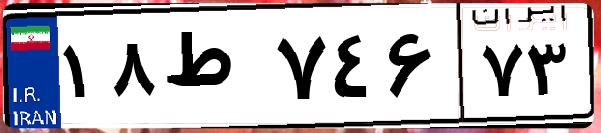1: (57, 26, 110, 100)
3: (525, 38, 570, 115)
4: (330, 28, 385, 110)
6: (385, 28, 445, 110)
7: (270, 28, 330, 110), (475, 38, 525, 113)
8: (110, 28, 158, 98)
ط: (158, 20, 270, 120)
